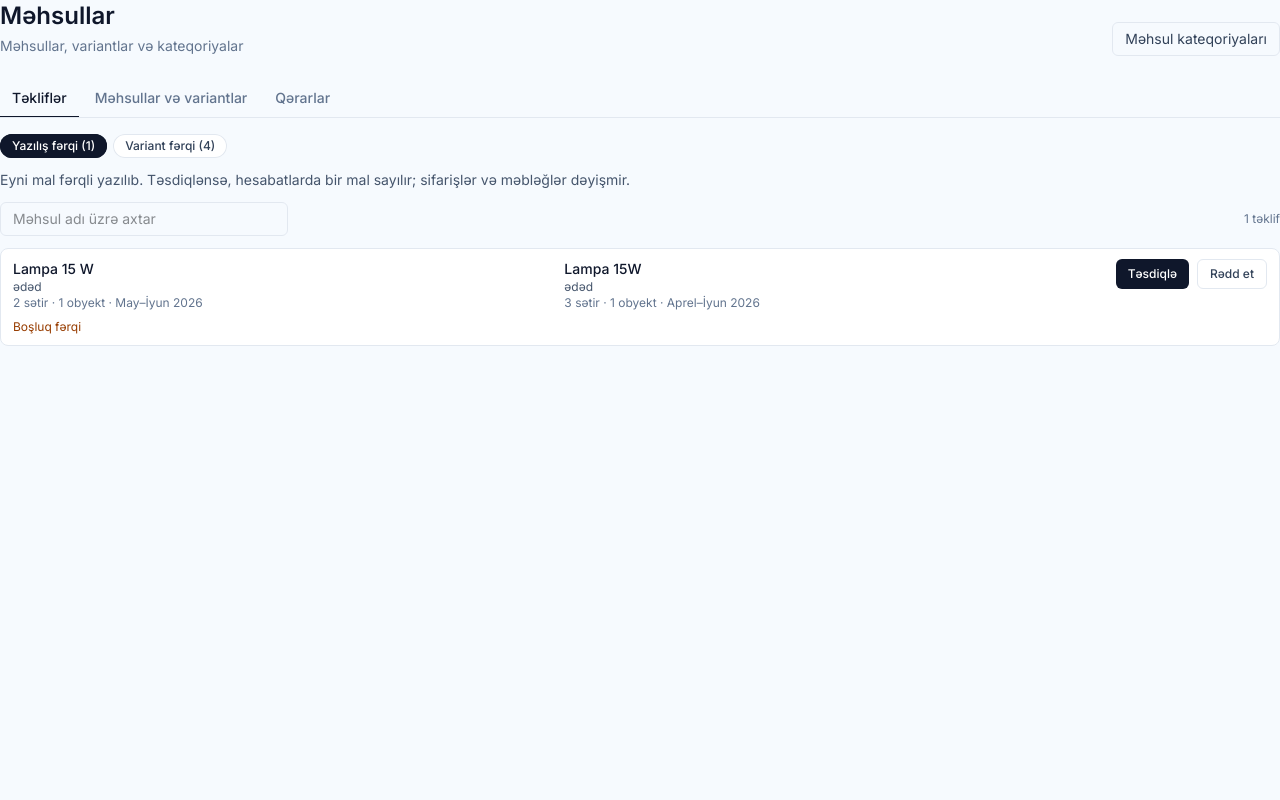
Test: an administrator › approves a spelling pair keeping the other spelling, which swaps the two ids
Check: the tab "Təkliflər" is shown, box x1=0 y1=80 x2=79 y2=118
What coordinates should you click on to do the following:
click the button "Təsdiqlə"
I would click on:
 (1152, 274)
Its box is x1=1116 y1=259 x2=1189 y2=289.
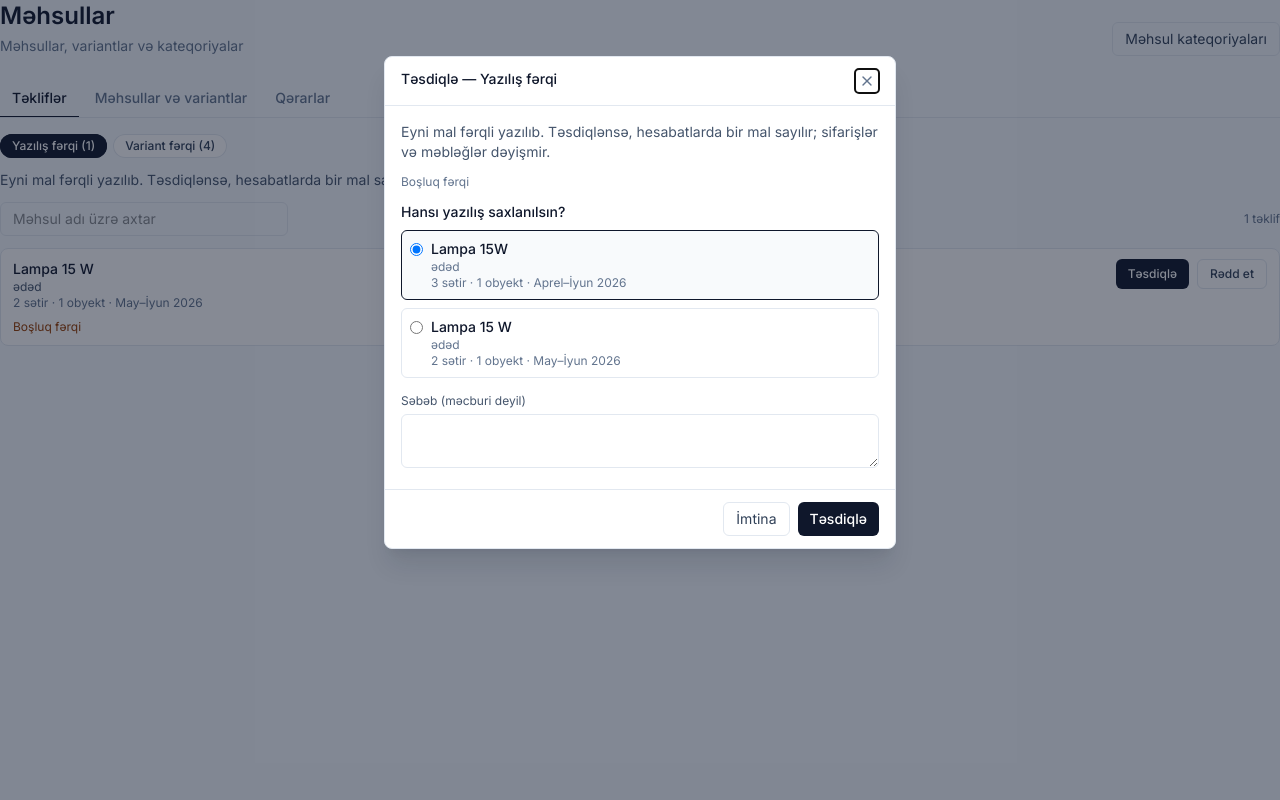
Check: the text "Hansı yazılış saxlanılsın?" is shown, box x1=401 y1=202 x2=565 y2=222
Check: the radio button labelled "Lampa 15W ədəd 3 sətir · 1 obyekt · Aprel–İyun 2026" is checked, box x1=410 y1=243 x2=423 y2=256
// ... and the administrator keeps "Lampa 15 W" instead.
What coordinates should you click on to do the following:
click the radio button labelled "Lampa 15 W ədəd 2 sətir · 1 obyekt · May–İyun 2026"
I would click on:
 (416, 328)
Its box is x1=410 y1=321 x2=423 y2=334.
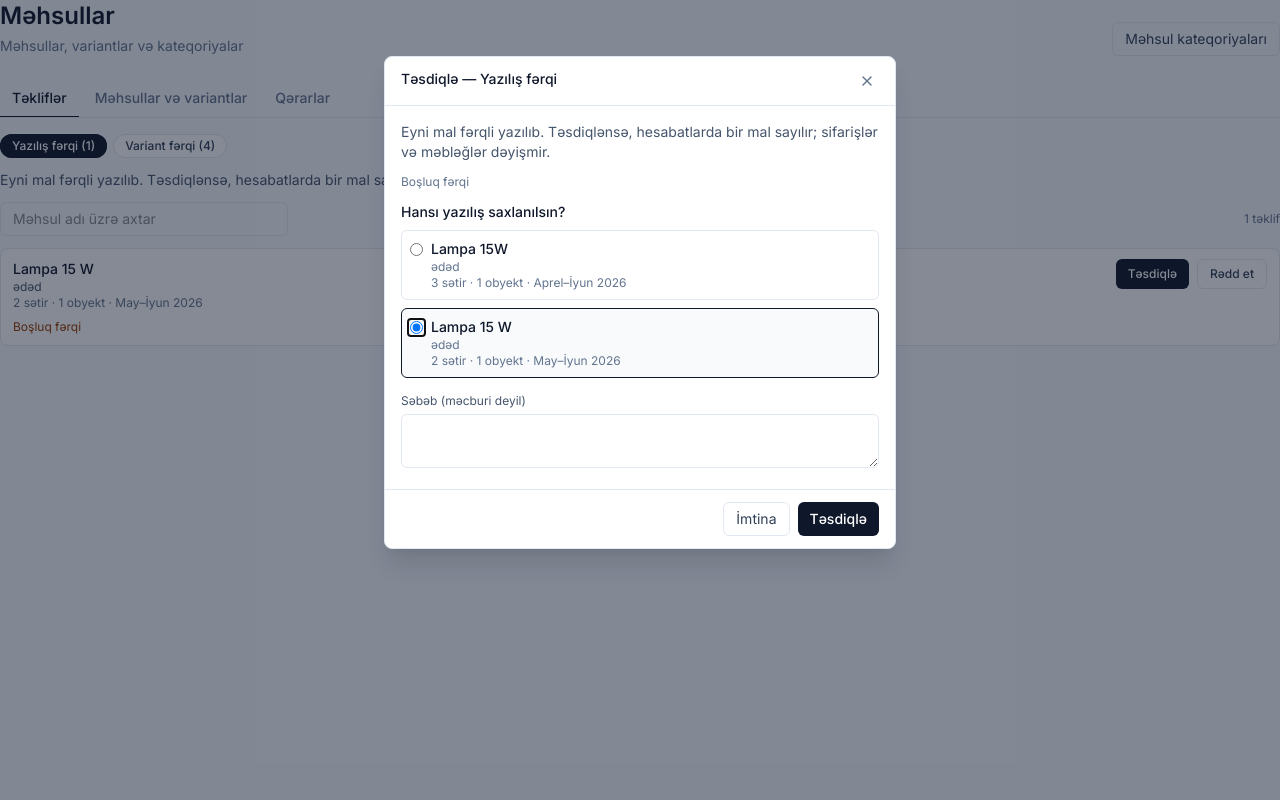
What coordinates should you click on to do the following:
click the button "Təsdiqlə"
I would click on:
 (838, 519)
Its box is x1=798 y1=502 x2=879 y2=536.
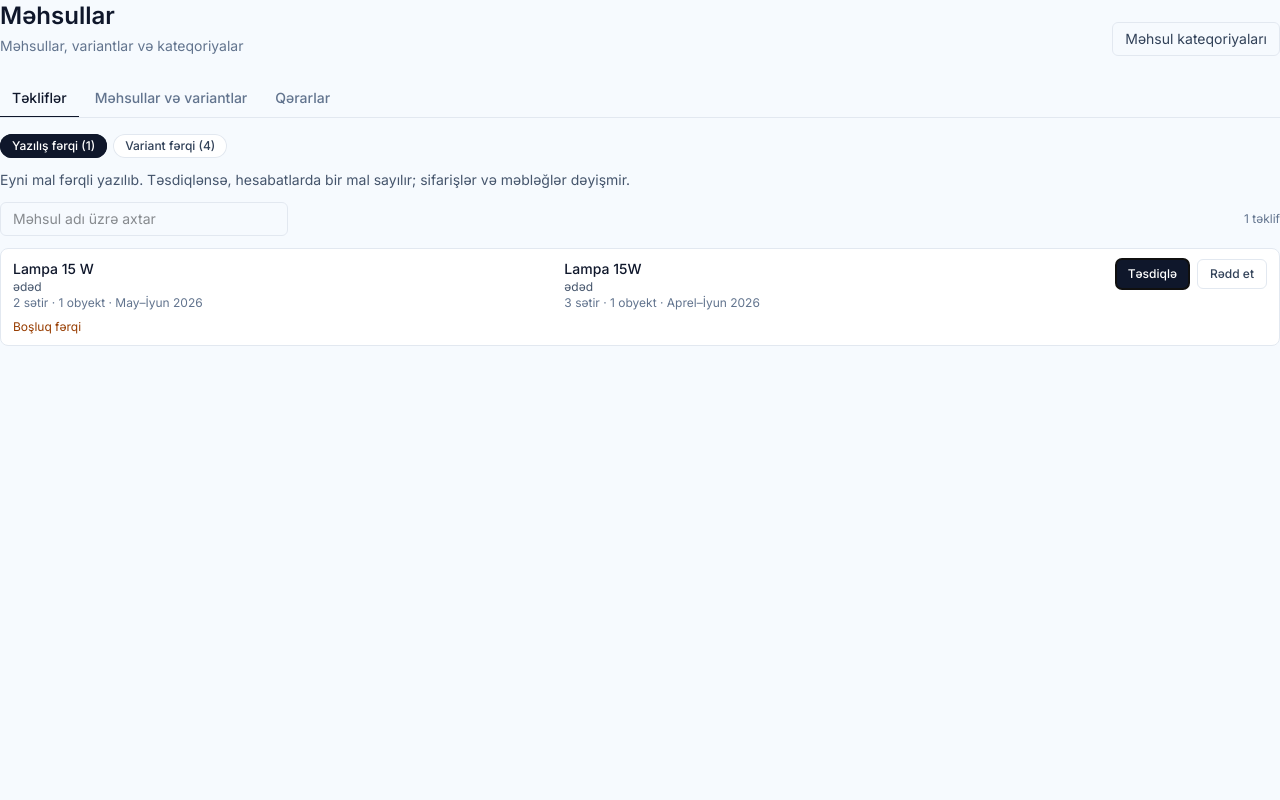
Check: the dialog is gone
